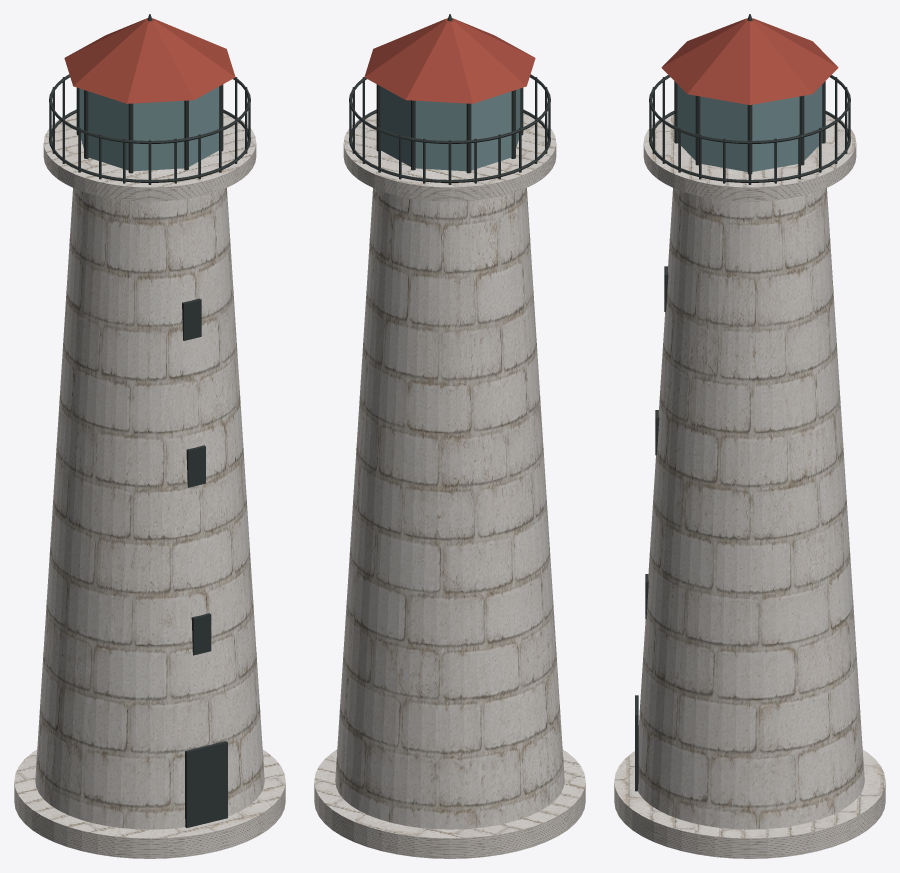
Rendered from milliken-lighthouse.glb.
3 views of the same model, side by side, from view 1: azimuth 30°, elevation 25°; view 2: azimuth 150°, elevation 25°; view 3: azimuth 270°, elevation 25° (orthographic).
Visible parts, largest first — view 1: Stone plinth, Lantern mullion, Red lantern cap, Octagonal lantern; view 2: Stone plinth, Red lantern cap, Octagonal lantern, Lantern mullion; view 3: Stone plinth, Red lantern cap, Octagonal lantern, Lantern mullion.
Part boxes in pixels (x1,y1,x2,y2): Stone plinth: (14, 113, 285, 858); Lantern mullion: (49, 14, 250, 827); Red lantern cap: (64, 18, 235, 103); Octagonal lantern: (79, 86, 219, 171); Stone plinth: (314, 113, 585, 858); Red lantern cap: (364, 18, 535, 103); Octagonal lantern: (380, 86, 520, 171); Lantern mullion: (349, 14, 550, 184); Stone plinth: (614, 114, 885, 858); Red lantern cap: (661, 18, 838, 104); Octagonal lantern: (677, 85, 822, 171); Lantern mullion: (635, 14, 850, 791).
Bounding box in the file's own units: 6 × 19.2 × 6.
Materials: 4 (1 with a texture image).
